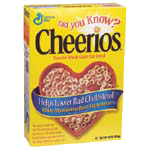grozi_4: (23, 3, 127, 147)
